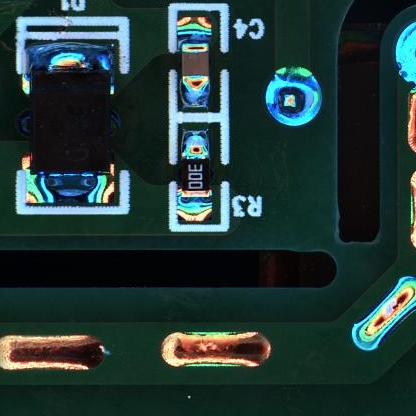spot: (264, 65, 322, 126)
